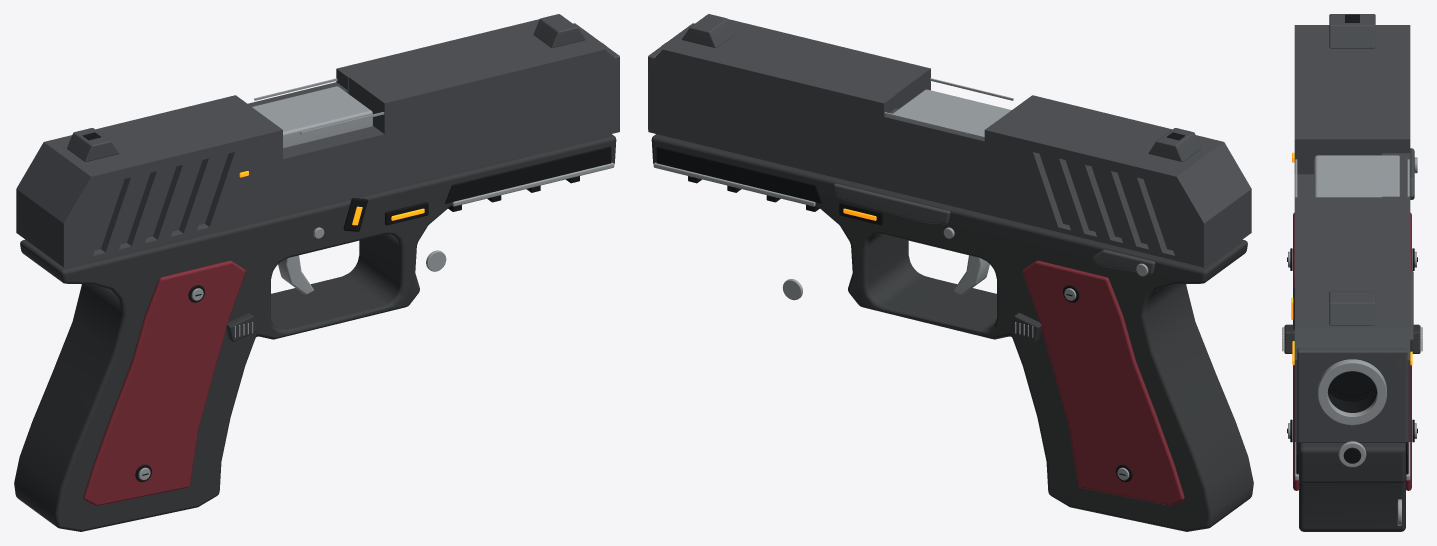
File: pistol.glb
3 renders of one model, left to right at view 1: azimuth 30°, elevation 25°; view 2: azimuth 150°, elevation 25°; view 3: azimuth 270°, elevation 25°, orthographic. The views are drawn at different scales.
Visible parts, largest first — view 1: Body, Slide.001, Trigger.001; view 2: Body, Slide.001, Trigger.001; view 3: Slide.001, Body.
Boxes of the visible parts, <box> form: Body: <box>14,14,619,531</box>; Slide.001: <box>16,19,619,267</box>; Trigger.001: <box>278,255,313,294</box>; Body: <box>648,14,1253,531</box>; Slide.001: <box>648,19,1251,267</box>; Trigger.001: <box>954,255,989,294</box>; Slide.001: <box>1294,25,1410,441</box>; Body: <box>1282,14,1422,531</box>.
Size of the model in its own units: 1.19 by 0.7562 by 0.209.
